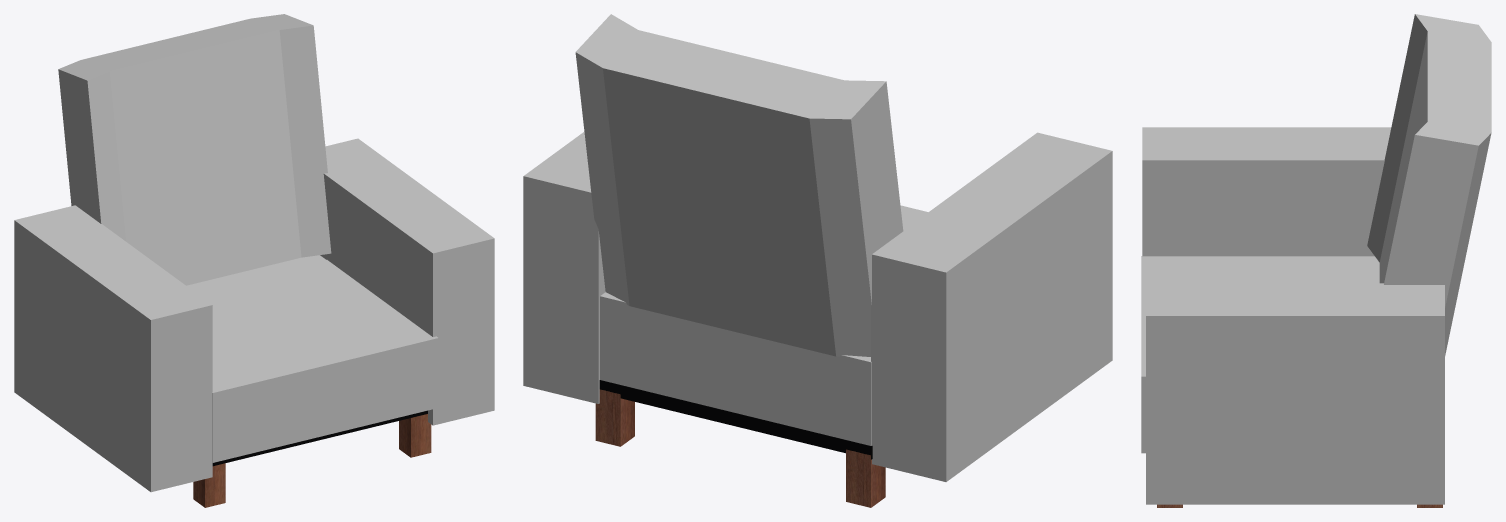
File: Sofa-green.dae
The picture shows the model from 3 angles, left to right: view 1: azimuth 30°, elevation 25°; view 2: azimuth 150°, elevation 25°; view 3: azimuth 270°, elevation 25°; orthographic projection. The views are drawn at different scales.
Parts seen in each view (by area): view 1: sofa; view 2: sofa; view 3: sofa.
Boxes of the visible parts, x1,y1,x2,y2 form: sofa: (14, 14, 494, 507); sofa: (523, 14, 1112, 507); sofa: (1141, 14, 1491, 507).
Size of the model in its own units: 3.36 by 2.69 by 3.17.
